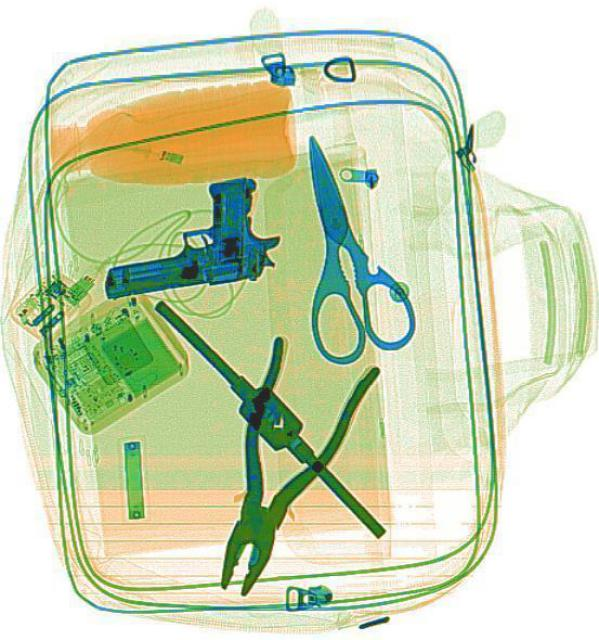Gun: (85, 171, 286, 307)
Pliers: (177, 326, 380, 610)
Scissors: (257, 122, 422, 368)
